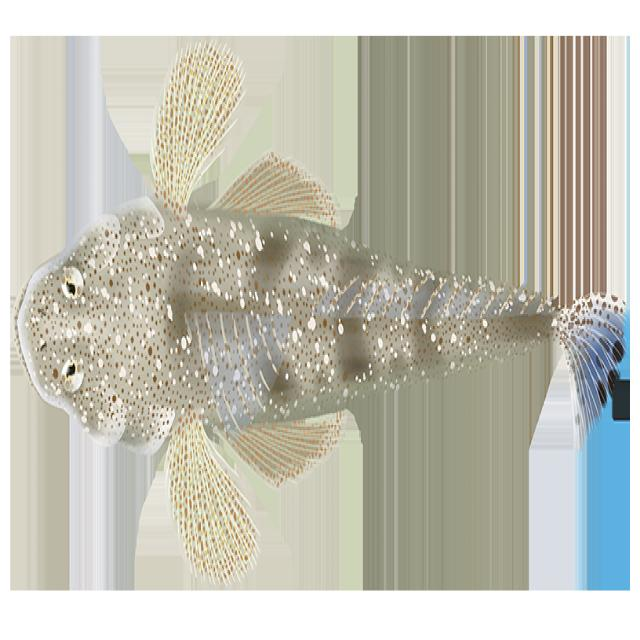Flathead: (14, 27, 632, 594)
